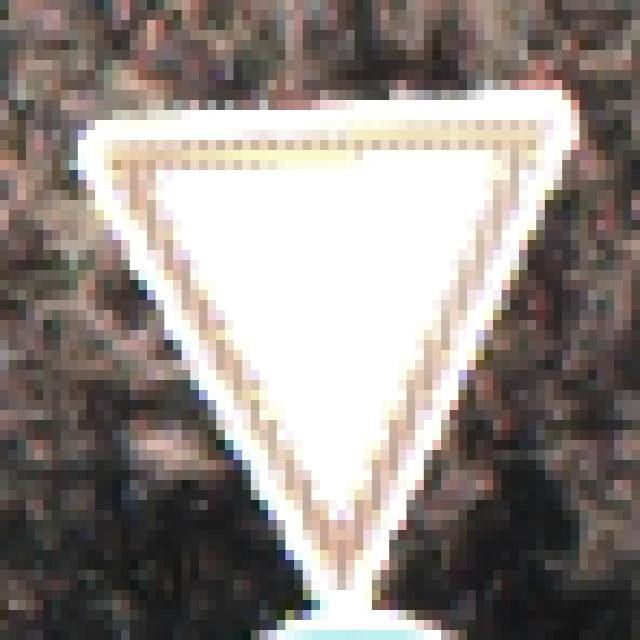Give Way: (62, 51, 589, 591)
